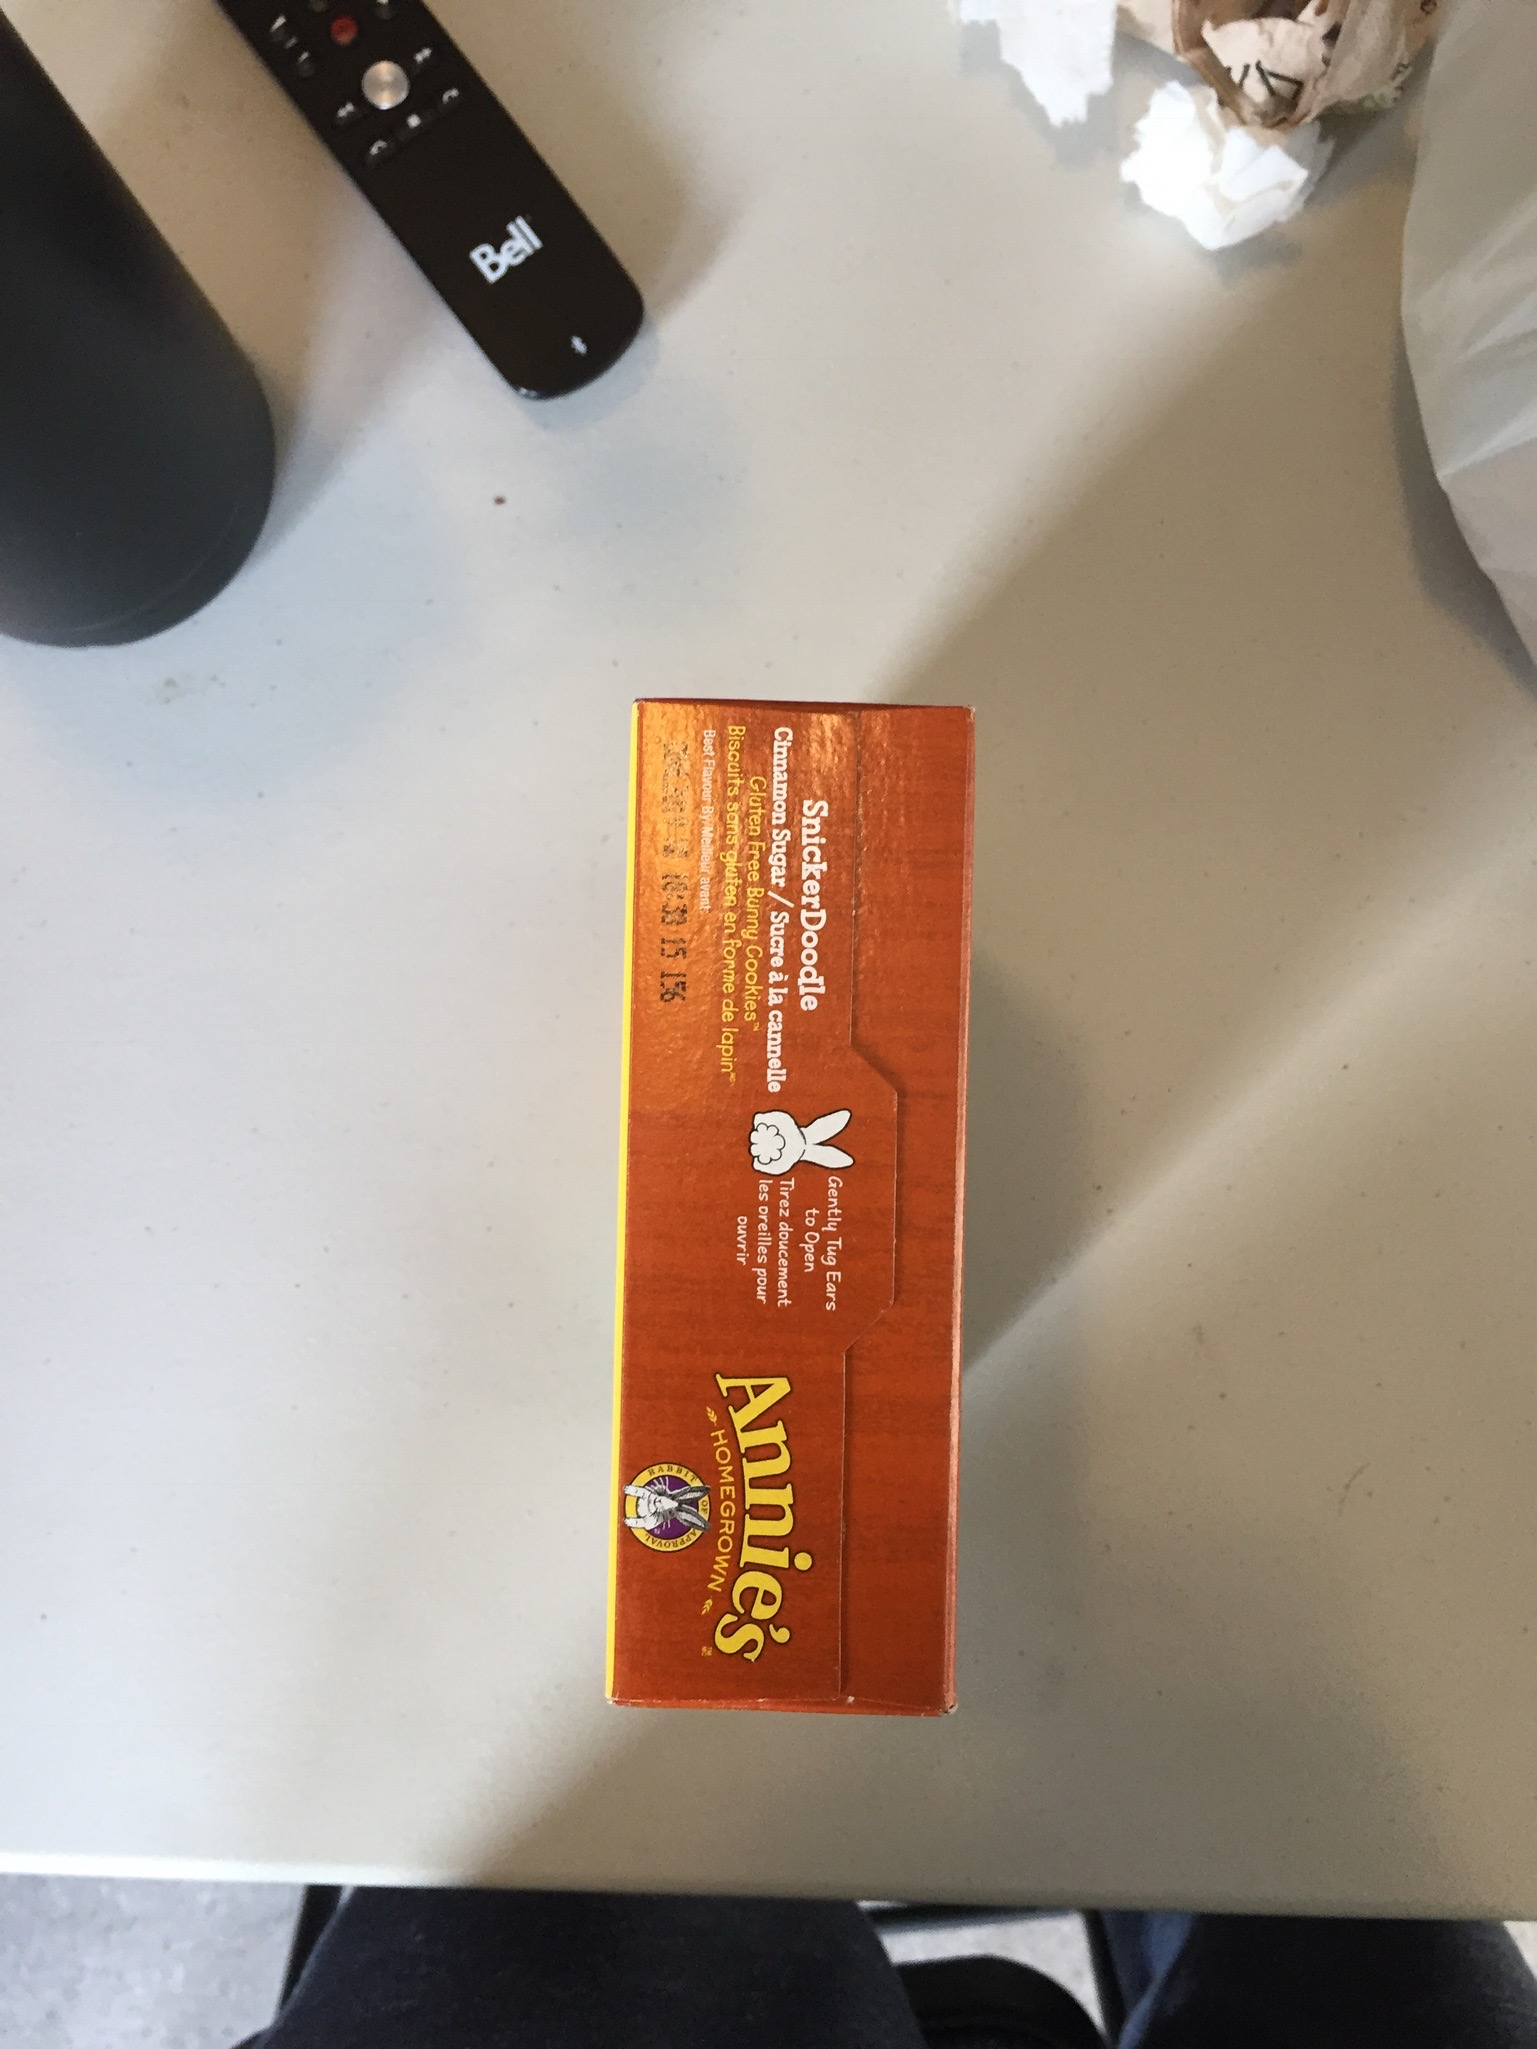annies_snickerdoodle_cinnamon_sugar: (646, 707, 938, 1720)
